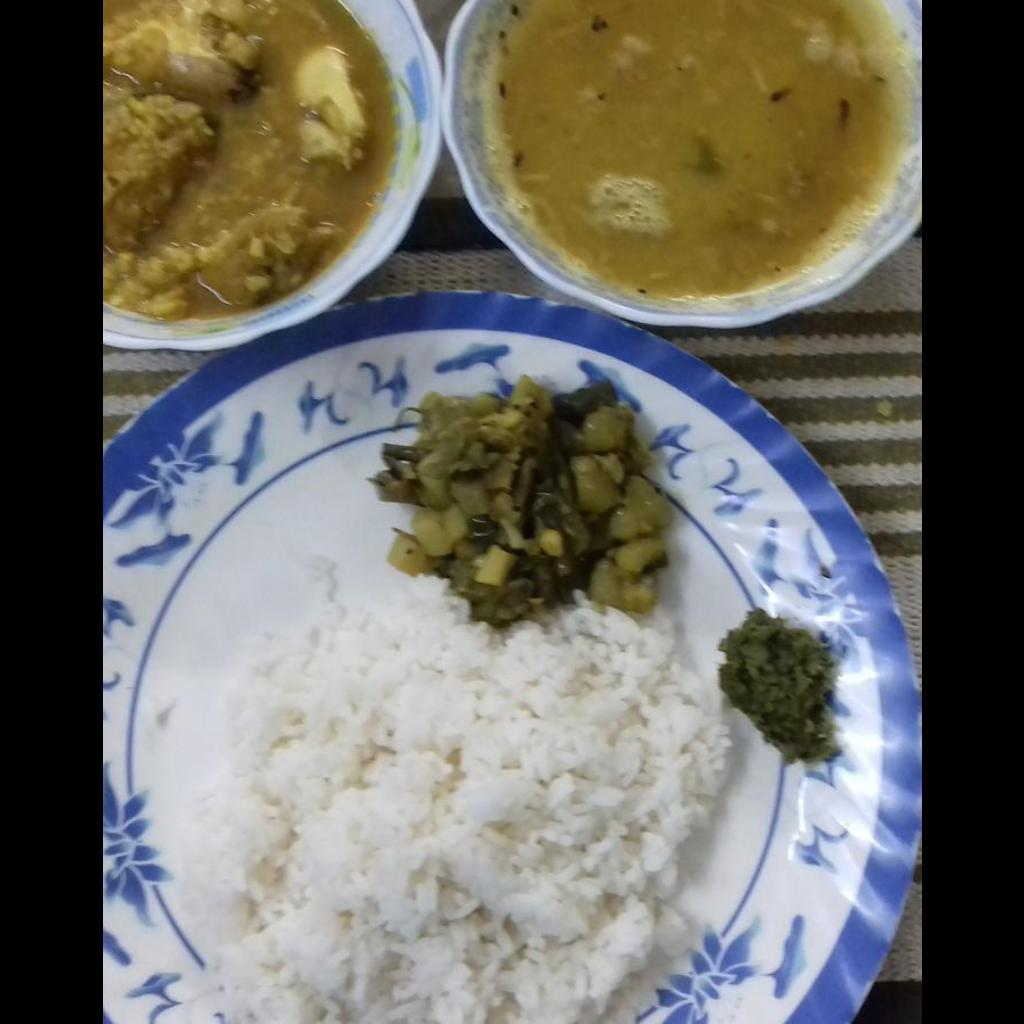chicken: (102, 0, 371, 311)
daal: (499, 0, 909, 300)
rice: (184, 549, 732, 1023)
vaji: (376, 378, 676, 621)
vorta: (719, 606, 843, 764)
